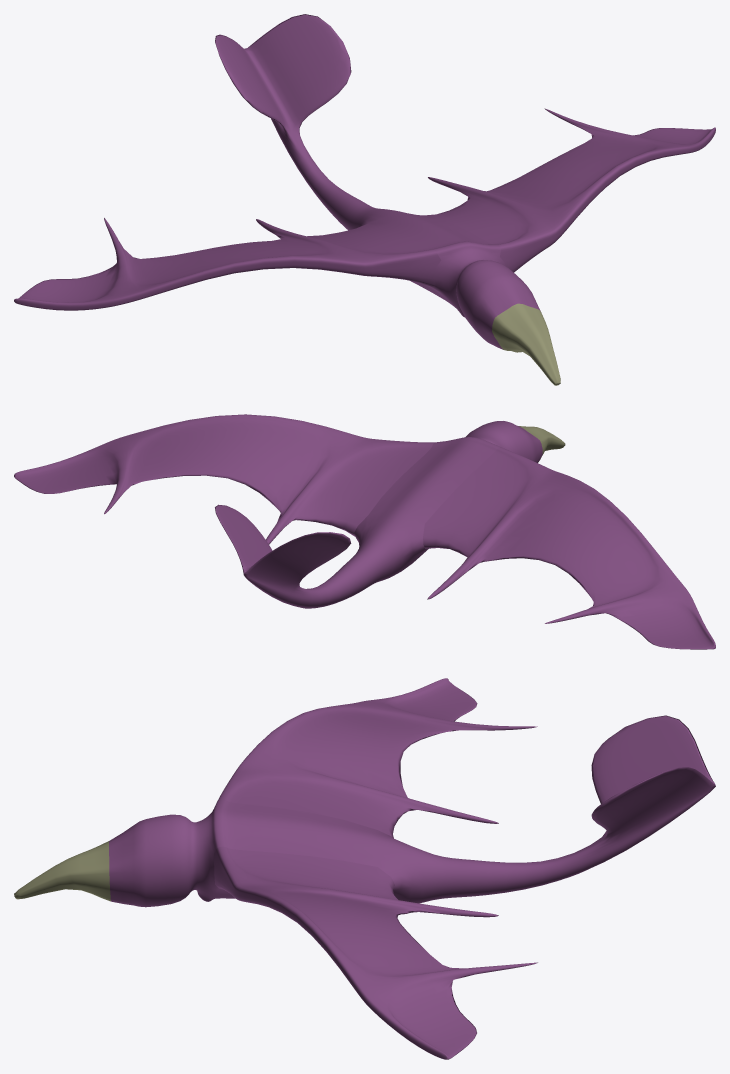
File: Big_Bird_seperated.fbx
The picture shows the model from 3 angles, top to bottom: view 1: azimuth 30°, elevation 25°; view 2: azimuth 150°, elevation 25°; view 3: azimuth 270°, elevation 25°; orthographic projection. The views are drawn at different scales.
Visible parts, largest first — view 1: polySurface3, polySurface2, polySurface5; view 2: polySurface2, polySurface5, polySurface3; view 3: polySurface3, polySurface5, polySurface2.
Boxes of the visible parts, x1,y1,x2,y2 form: polySurface3: (215,14,560,385); polySurface2: (14,218,441,310); polySurface5: (426,108,715,272); polySurface2: (423,447,715,649); polySurface5: (14,414,434,544); polySurface3: (215,421,565,608); polySurface3: (14,715,715,907); polySurface5: (214,846,537,1059); polySurface2: (217,678,537,838).
Size of the model in its own units: 349 by 68.89 by 273.
